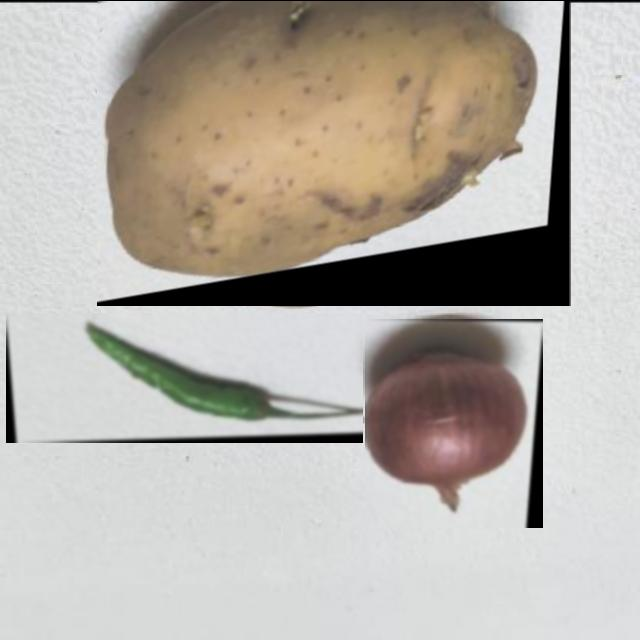Pepper: (6, 312, 363, 442)
onion: (365, 318, 543, 527)
potato: (98, 0, 572, 305)
